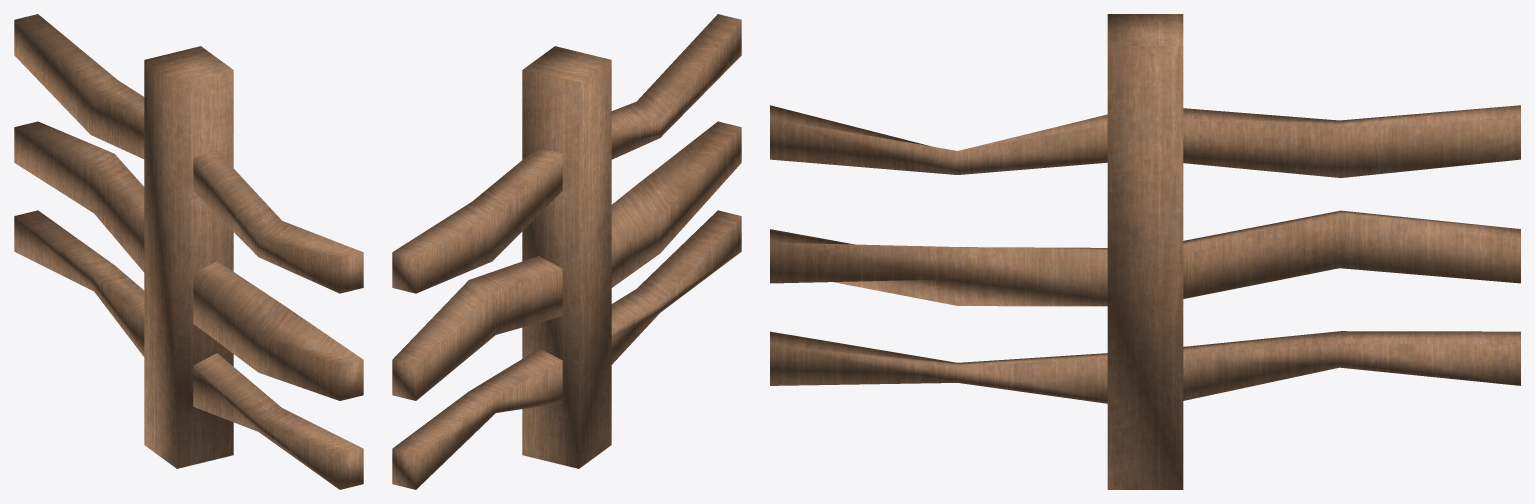
3 views of the same model, side by side, from view 1: azimuth 30°, elevation 25°; view 2: azimuth 150°, elevation 25°; view 3: azimuth 270°, elevation 25° (orthographic). The views are drawn at different scales.
Visible parts, largest first — view 1: Cube150_Wood_02001_0; view 2: Cube150_Wood_02001_0; view 3: Cube150_Wood_02001_0.
Boxes of the visible parts, bbox=[...] form: Cube150_Wood_02001_0: bbox=[14, 14, 363, 489]; Cube150_Wood_02001_0: bbox=[392, 14, 741, 489]; Cube150_Wood_02001_0: bbox=[770, 14, 1520, 489].
Bounding box in the file's own units: 0.2 × 1.3 × 1.99.
Materials: 1 (1 with a texture image).
